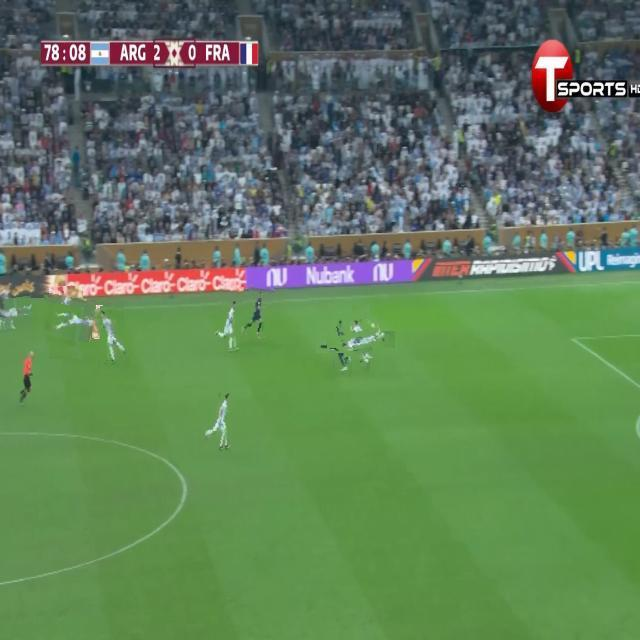ball: (368, 318, 379, 332)
player: (38, 294, 95, 351), (97, 305, 129, 375), (338, 316, 384, 362), (203, 392, 234, 459), (214, 285, 242, 353), (243, 286, 273, 340), (0, 284, 32, 329), (325, 324, 361, 362)
referee: (17, 344, 39, 425)
